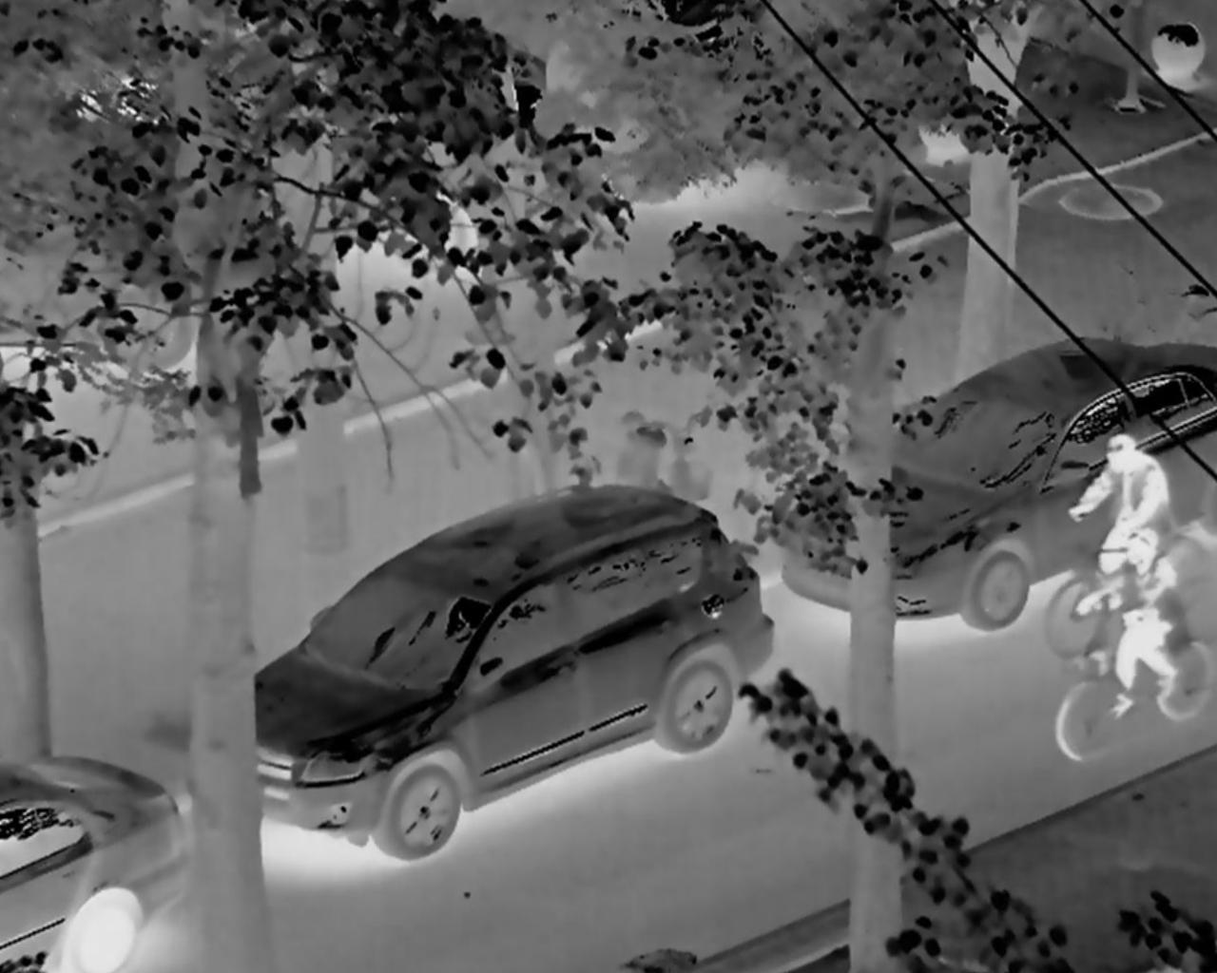person: (1068, 525, 1203, 754), (1068, 429, 1185, 623)
